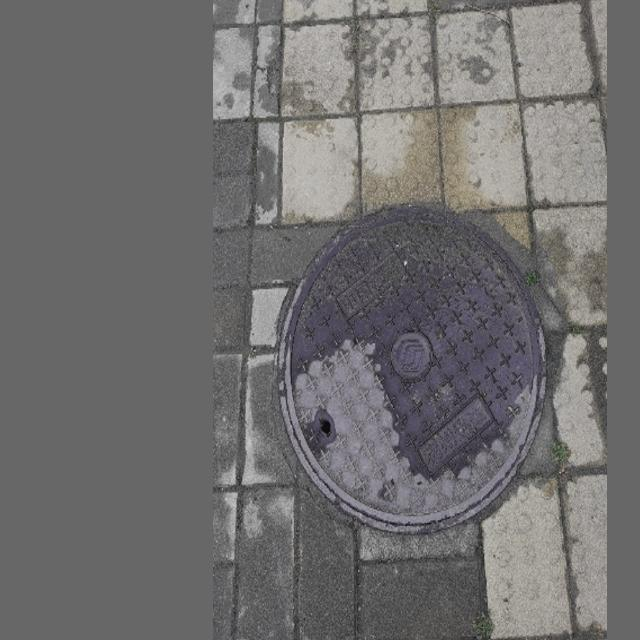good: (279, 206, 548, 535)
